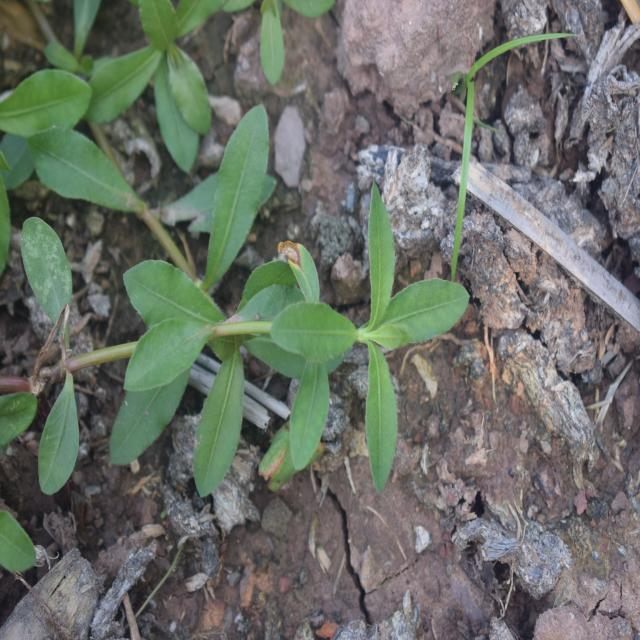Alligatorweed: (95, 130, 475, 494)
